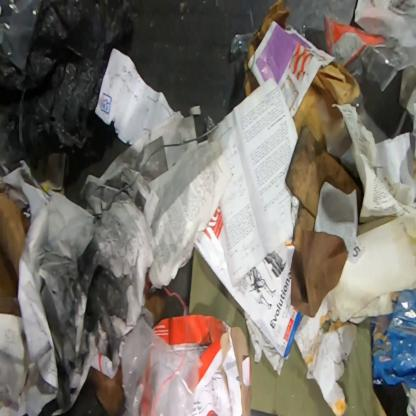cardboard: (189, 248, 387, 416), (284, 126, 358, 317), (153, 313, 251, 415), (294, 61, 360, 154), (243, 0, 289, 99), (0, 194, 31, 318)
rigid_plastic: (300, 13, 416, 92), (230, 5, 256, 103)
soft_plastic: (0, 7, 135, 192), (120, 315, 202, 415), (370, 289, 415, 389)
